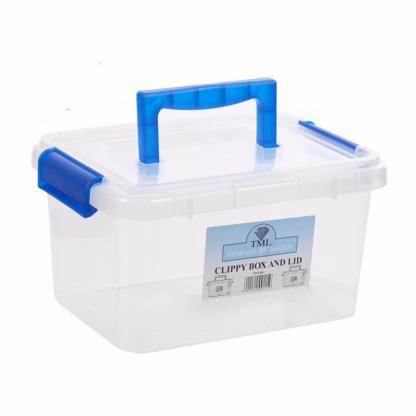plastic_box: (29, 44, 409, 373)
